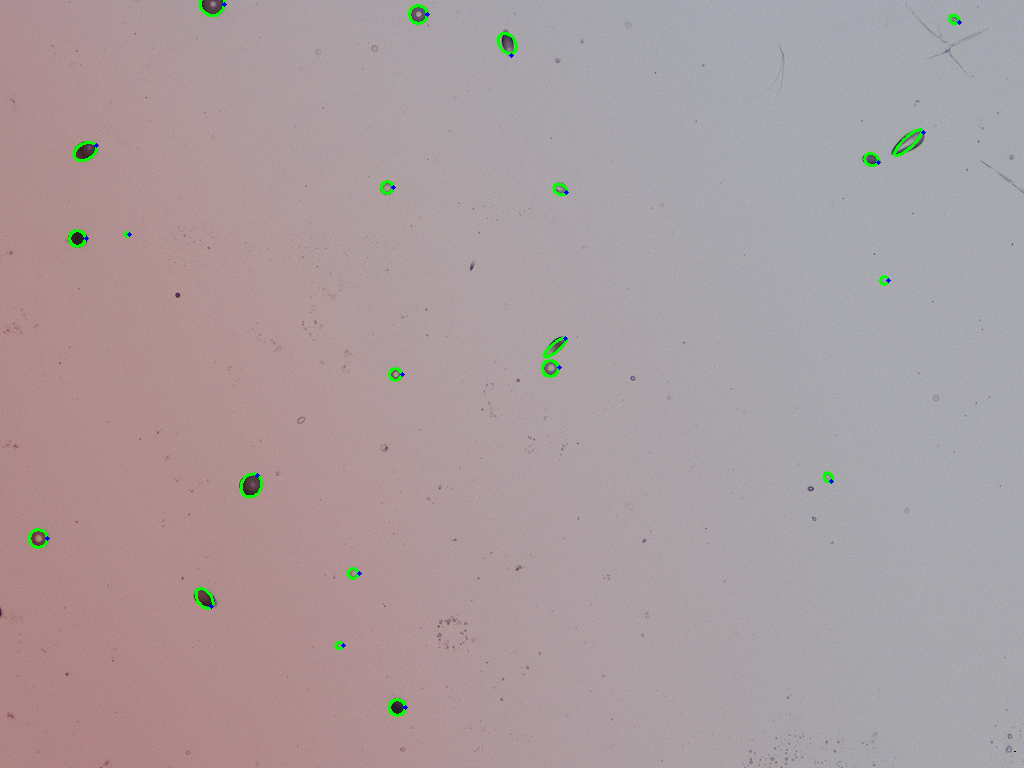circle: (409, 4, 427, 23), (68, 229, 86, 247), (29, 529, 47, 547), (542, 359, 559, 376), (388, 698, 405, 715), (388, 367, 402, 381), (380, 181, 393, 194), (348, 568, 359, 578), (823, 472, 833, 482), (880, 275, 888, 284), (335, 641, 343, 649), (124, 231, 129, 237)
ellipse: (891, 130, 925, 155), (239, 473, 263, 496), (544, 336, 566, 359), (73, 141, 97, 161), (193, 589, 215, 607), (501, 29, 513, 58), (862, 153, 880, 166), (552, 182, 567, 195), (949, 15, 959, 24)
